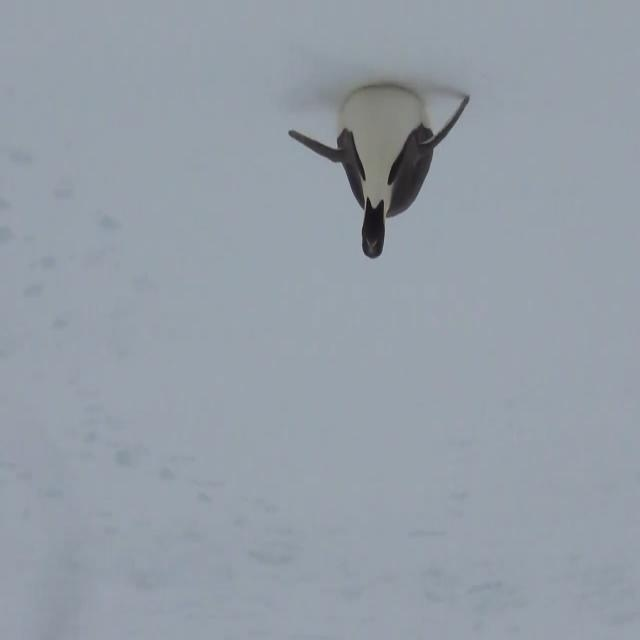penguin: (288, 81, 471, 261)
